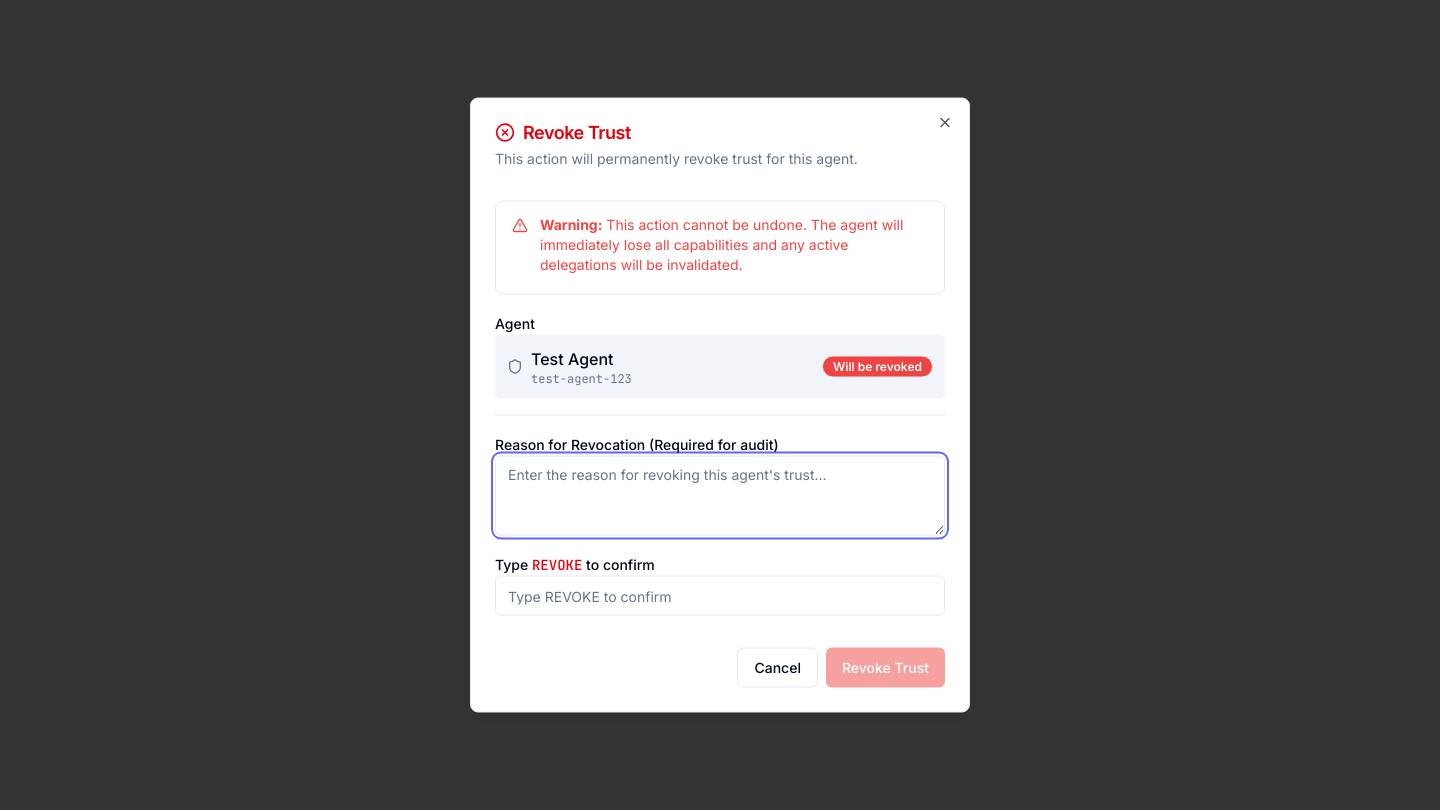
Test case: RevokeTrustDialog › converts confirmation to uppercase automatically
The width and height of the screenshot is (1440, 810).
Step 1. Type "Test" into the text box with placeholder "Enter the reason for revoking this agent's trust..." → (720, 496), box [495, 456, 945, 536]
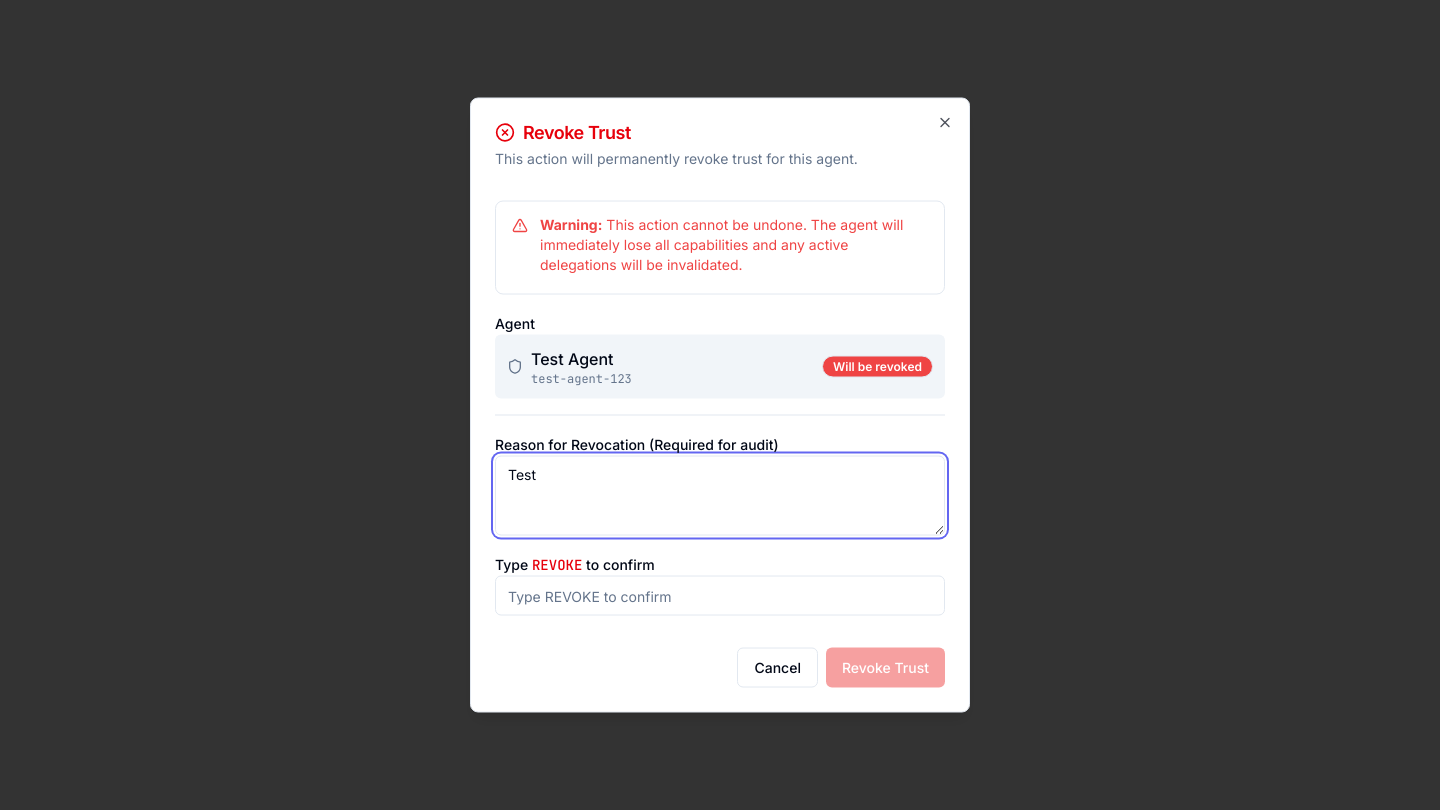
Step 2. Type "revoke" into the field with placeholder "Type REVOKE to confirm" → (720, 596), box [495, 576, 945, 616]
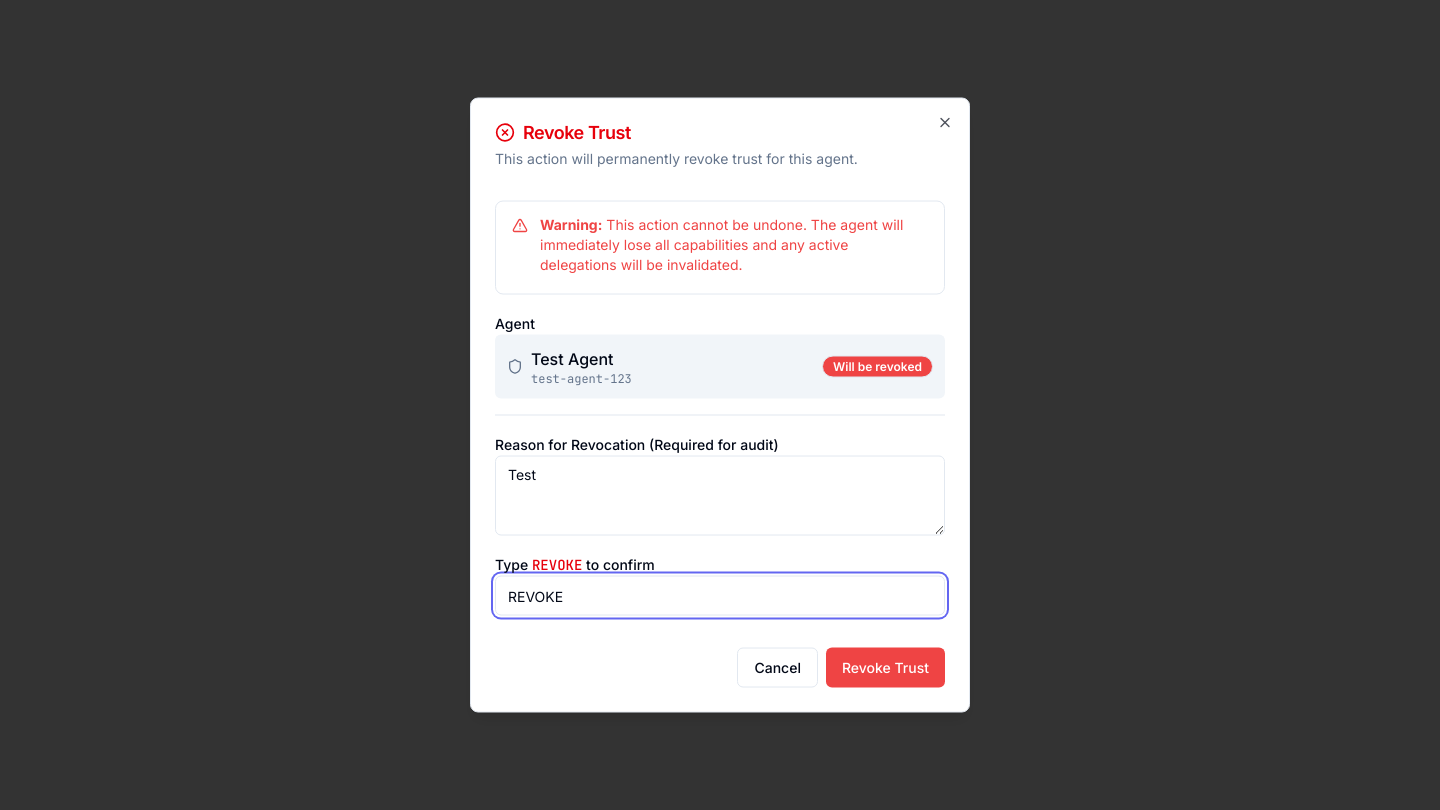
Check: the button "Revoke Trust" is enabled, box [826, 648, 945, 688]
